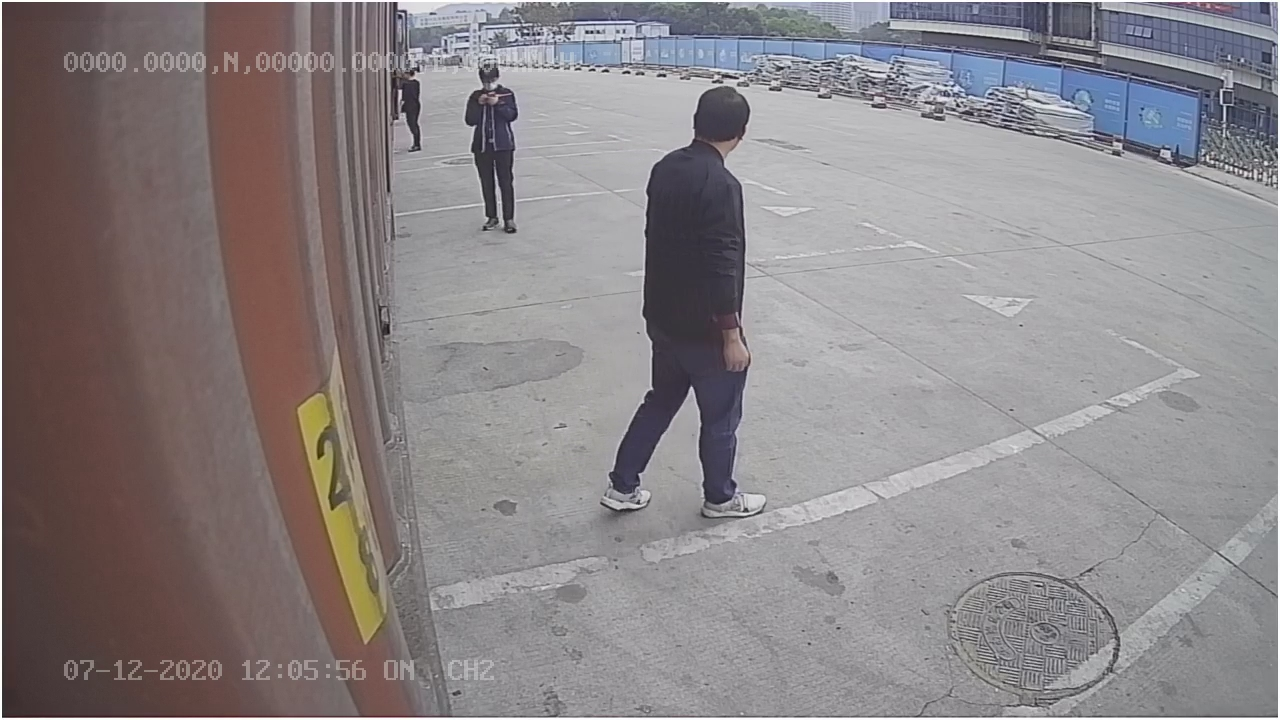person: (599, 84, 775, 520)
